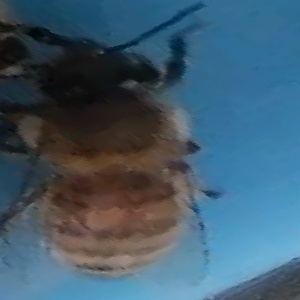bee: (3, 21, 235, 283)
